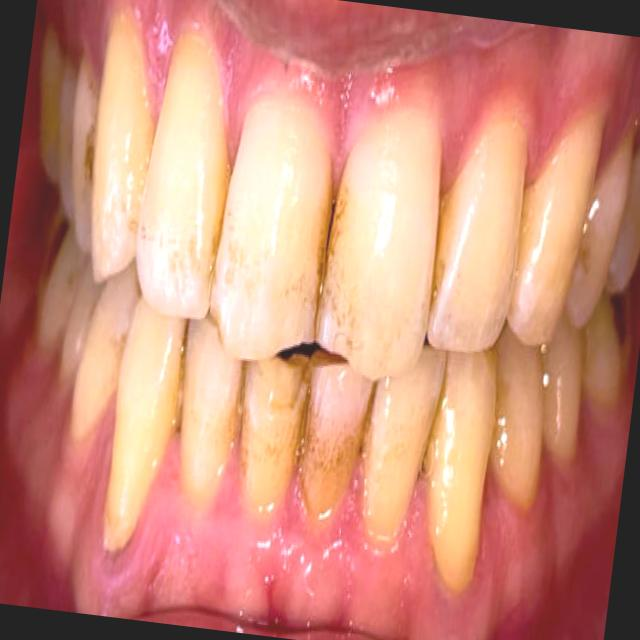calculus: (90, 373, 156, 552), (290, 379, 359, 544), (225, 392, 292, 546)
